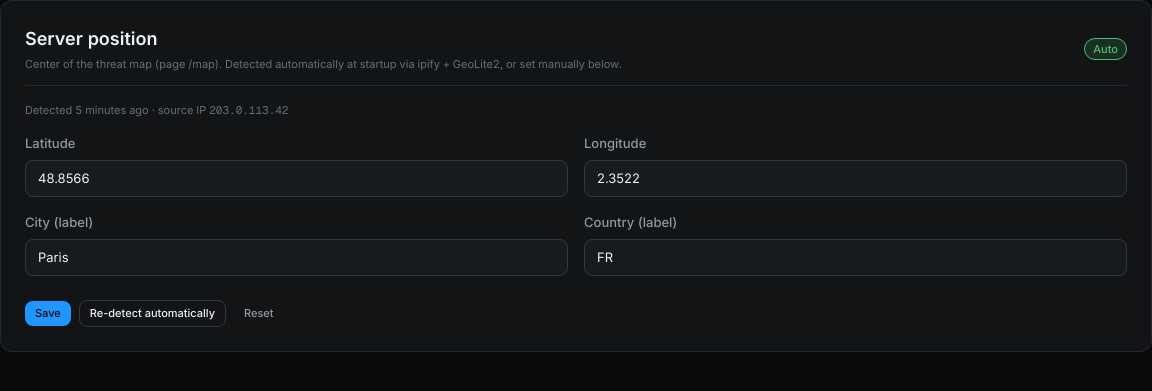
Test: ServerPositionSection — validation › rejects lon > 180 with an inline error
This screenshot has width=1152, height=391.
Type "181" into the number field with test id "server-position-lon-input".
click(856, 178); type("181")  # box [584,160,1127,197]
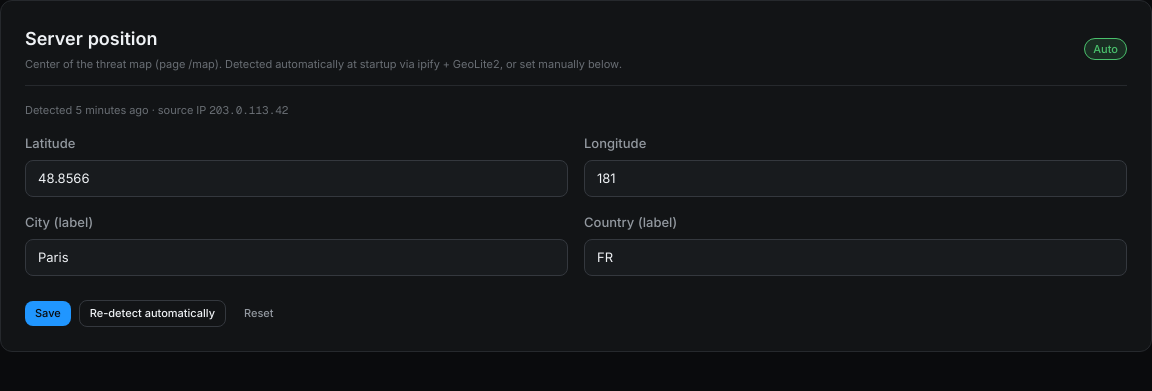
Submit the form with test id "server-position-form", box [25,134,1127,326]
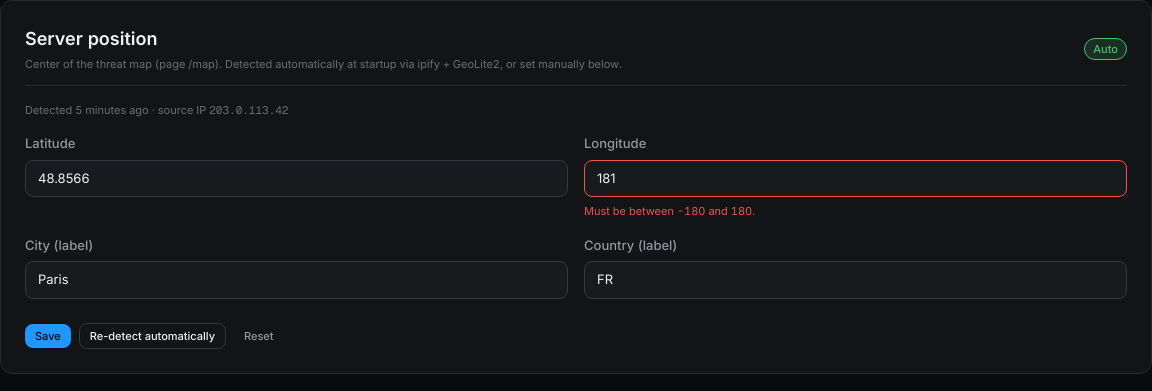
expect the text "Must be between -180 and 180." is shown: met, box [584,204,755,218]
